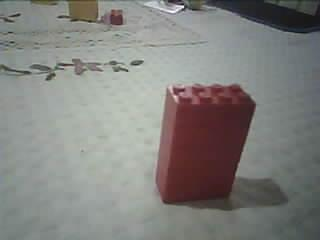lego: (153, 81, 257, 204), (68, 1, 100, 20), (109, 8, 124, 26)
